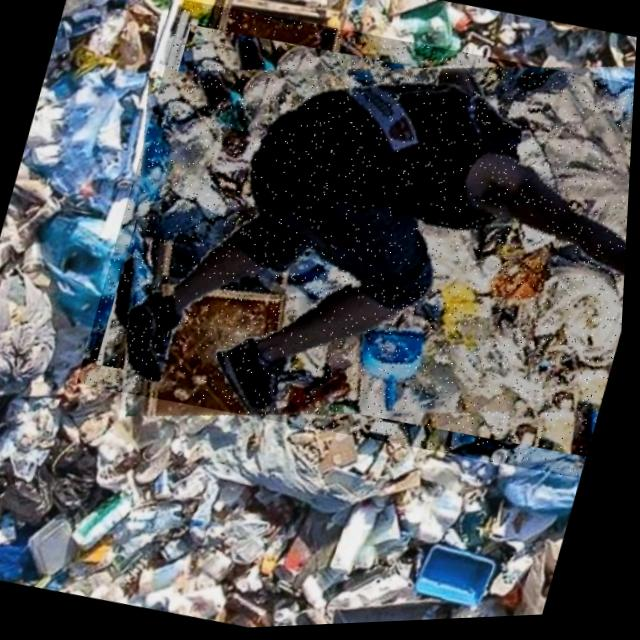Person in Rubble: (74, 0, 640, 502)
